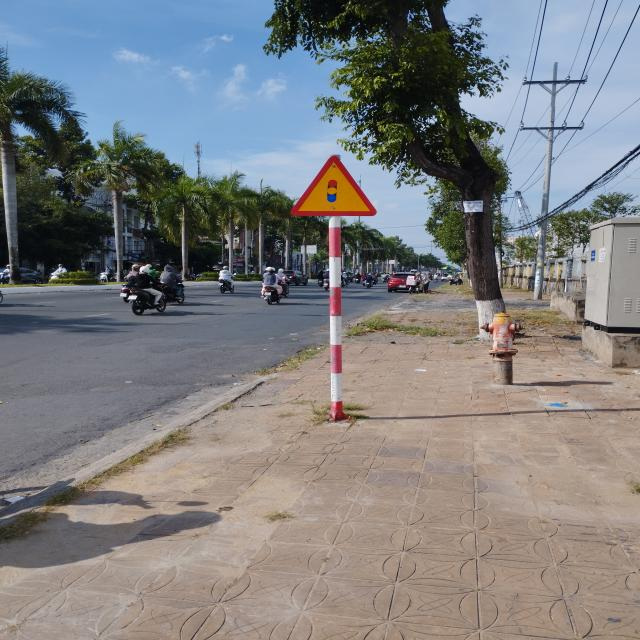Duong_Co_Go_Giam_Toc: (289, 156, 376, 216)
